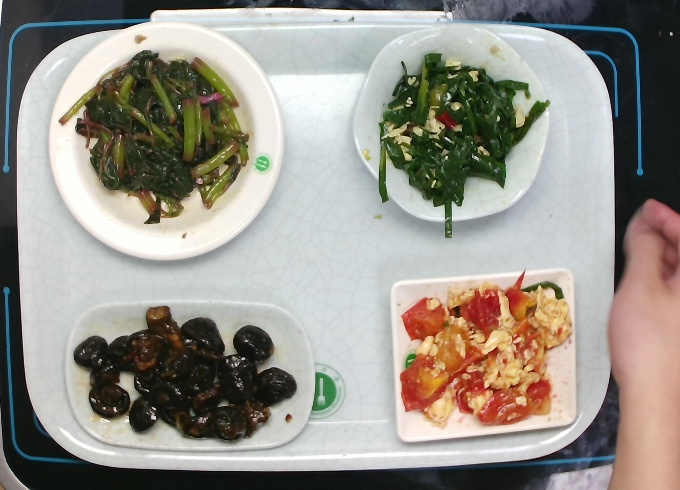WCQzf-Bai_Se_Si_Fang_Die: (381, 265, 588, 438)
WCQzf-Hua_Duo_Wan: (349, 20, 552, 226)
WCQzf-Kuan_Bian_Yuan_Die: (46, 21, 291, 268)
WCQzf-Tuo_Yuan_Pan: (64, 297, 318, 454)
